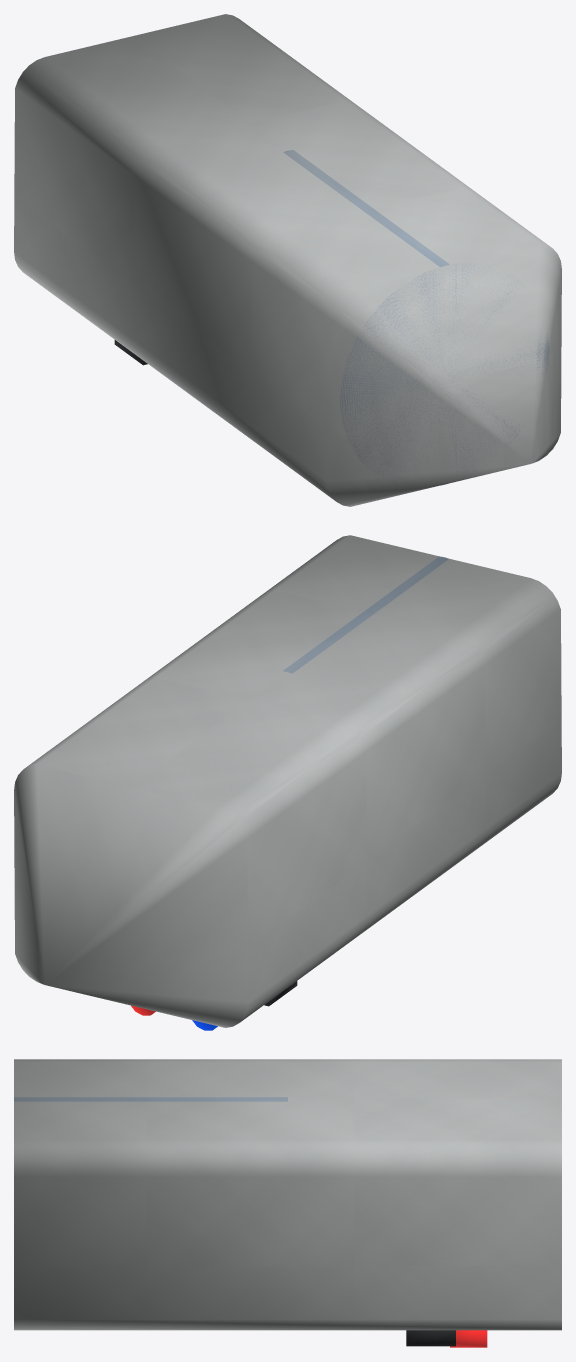
The model's file is WATER_DISPENSER_001.glb.
3 renders of one model, top to bottom at view 1: azimuth 30°, elevation 25°; view 2: azimuth 150°, elevation 25°; view 3: azimuth 270°, elevation 25°, orthographic. The views are drawn at different scales.
Visible parts, largest first — view 1: body_000, water_jug_001; view 2: body_000, water_jug_001; view 3: body_000, spout_panel_002, water_jug_001, hot_button_004.
Part boxes in pixels (x1=…): body_000: x1=14, y1=14, x2=561, y2=506; water_jug_001: x1=284, y1=150, x2=548, y2=484; body_000: x1=14, y1=535, x2=561, y2=1027; water_jug_001: x1=284, y1=557, x2=447, y2=672; body_000: x1=14, y1=1059, x2=561, y2=1330; spout_panel_002: x1=406, y1=1330, x2=455, y2=1346; water_jug_001: x1=14, y1=1098, x2=287, y2=1100; hot_button_004: x1=450, y1=1330, x2=487, y2=1347.
Size of the model in its own units: 0.38 by 0.415 by 0.88.
Materials: 5 (5 with a texture image).
